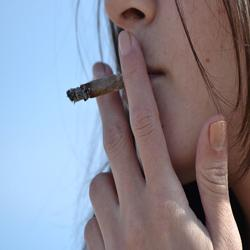smoking: (64, 64, 171, 106)
